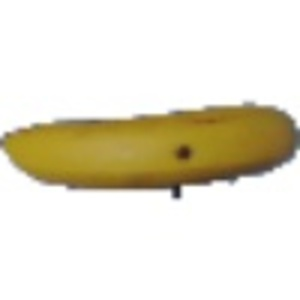banana: (1, 95, 297, 189)
